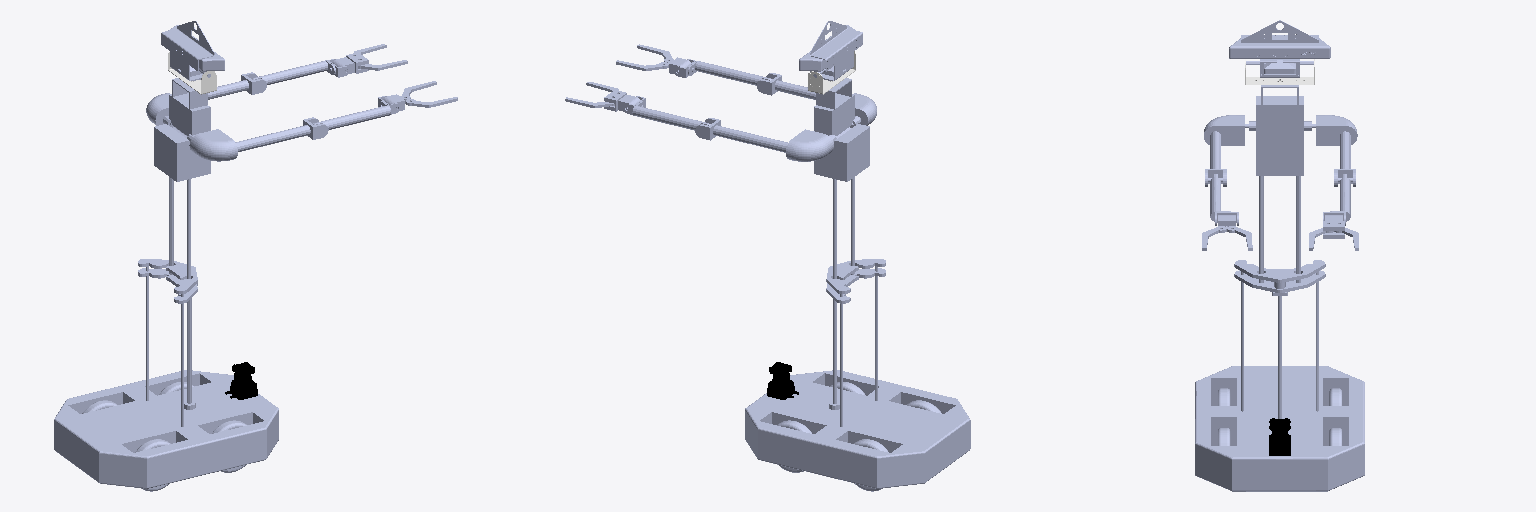
--- What the picture shows (computed from the rendered views, not written in the file) ---
3 views of the same robot in one strip: view 1: azimuth 30°, elevation 25°; view 2: azimuth 150°, elevation 25°; view 3: azimuth 270°, elevation 25° (orthographic).
Model lumyai_neli with 21 links and 20 joints (16 continuous, 1 prismatic, 3 fixed), rooted at base_link, posed all joints at 0.
Links seen in each view (by area): view 1: base_link, torso_Link, tilt_Link, right_shoulder_1_Link, right_shoulder_2_Link, laser_Link, left_elbow_Link, right_elbow_Link, left_shoulder_2_Link, pan_Link, left_shoulder_1_Link; view 2: base_link, torso_Link, tilt_Link, left_shoulder_1_Link, left_shoulder_2_Link, laser_Link, right_elbow_Link, left_elbow_Link, right_shoulder_2_Link, pan_Link, right_shoulder_1_Link; view 3: base_link, torso_Link, tilt_Link, left_shoulder_1_Link, right_shoulder_1_Link, laser_Link, right_shoulder_2_Link, left_shoulder_2_Link, pan_Link.
Link boxes in pixels (<box>): base_link: <box>54,259,278,491</box>; torso_Link: <box>138,78,210,303</box>; tilt_Link: <box>161,21,224,80</box>; right_shoulder_1_Link: <box>189,129,237,161</box>; right_shoulder_2_Link: <box>235,117,328,151</box>; laser_Link: <box>225,362,257,399</box>; left_elbow_Link: <box>252,60,335,84</box>; right_elbow_Link: <box>313,101,390,129</box>; left_shoulder_2_Link: <box>208,72,266,99</box>; pan_Link: <box>168,52,216,94</box>; left_shoulder_1_Link: <box>146,93,172,126</box>; base_link: <box>745,259,970,491</box>; torso_Link: <box>814,78,885,303</box>; tilt_Link: <box>799,21,862,80</box>; left_shoulder_1_Link: <box>786,129,833,161</box>; left_shoulder_2_Link: <box>695,118,787,152</box>; laser_Link: <box>767,362,798,399</box>; right_elbow_Link: <box>688,61,771,85</box>; left_elbow_Link: <box>632,101,710,130</box>; right_shoulder_2_Link: <box>757,73,815,99</box>; pan_Link: <box>808,51,855,94</box>; right_shoulder_1_Link: <box>850,93,876,126</box>; base_link: <box>1195,260,1364,491</box>; torso_Link: <box>1234,85,1325,295</box>; tilt_Link: <box>1229,20,1330,77</box>; left_shoulder_1_Link: <box>1312,115,1357,145</box>; right_shoulder_1_Link: <box>1204,115,1248,145</box>; laser_Link: <box>1269,418,1290,455</box>; right_shoulder_2_Link: <box>1205,131,1226,186</box>; left_shoulder_2_Link: <box>1334,131,1355,186</box>; pan_Link: <box>1245,59,1314,84</box>.
Bounding box of the posed robot: 1.13 × 0.456 × 1.35 m (x, y, z).
20 mesh visuals loaded from 21 distinct referenced files (20 binary STL); not drawn: 1 (reference not matched to a file when rendering).

URDF robot description (lumyai_neli):
<robot name="lumyai_neli">
  <link name="base_link">
    <inertial>
      <origin xyz="0.000356537786255296 -6.6249418627309E-17 0.0997888259449414" rpy="0 0 0" />
      <mass value="22.8330889899799" />
      <inertia
        ixx="0.393056901892828"
        ixy="1.36347370720269E-09"
        ixz="0.00281217969636561"
        iyy="0.655262329988686"
        iyz="-5.72458747072346E-17"
        izz="0.93344221495804" />
    </inertial>
    <visual>
      <origin xyz="0 0 0" rpy="0 0 0" />
      <geometry>
        <mesh filename="package://lumyai_descriptions/meshes/base_link.STL" />
      </geometry>
      <material name="">
        <color rgba="0.792156862745098 0.819607843137255 0.933333333333333 1" />
      </material>
    </visual>
    <collision>
      <origin xyz="0 0 0" rpy="0 0 0" />
      <geometry>
        <mesh filename="package://lumyai_descriptions/meshes/base_link.STL" />
      </geometry>
    </collision>
  </link>

  <link name="torso_Link">
    <inertial>
      <origin xyz="-0.0178492334695928 1.64680041842964E-05 0.42269777566101" rpy="0 0 0" />
      <mass value="2.69155190066383" />
      <inertia
        ixx="0.0469156503531629"
        ixy="-3.16954065000709E-07"
        ixz="0.00288774459410475"
        iyy="0.0450852039355934"
        iyz="2.76151419280066E-06"
        izz="0.00687526558226967" />
    </inertial>
    <visual>
      <origin xyz="0 0 0" rpy="0 0 0" /> 
      <geometry>
        <mesh filename="package://lumyai_descriptions/meshes/ballscrew_Link.STL" />
      </geometry>
      <material name="">
        <color rgba="0.792156862745098 0.819607843137255 0.933333333333333 1" />
      </material>
    </visual>
    <collision>
      <origin xyz="0 0 0" rpy="0 0 0" />
      <geometry>
        <mesh filename="package://lumyai_descriptions/meshes/ballscrew_Link.STL" />
      </geometry>
    </collision>
  </link>

  <joint name="torso_joint" type="prismatic">
    <origin xyz="0.075 0 0.5342" rpy="-1.2246E-16 -1.2246E-16 -4.1633E-17" />
    <parent link="base_link" />
    <child link="torso_Link" />
    <axis xyz="0 0 1" />
    <limit
      lower="0"
      upper="0"
      effort="0"
      velocity="0" />
  </joint>

  <link name="pan_Link">
    <inertial>
      <origin xyz="0 -0.00119126756458552 0.0134576748385669" rpy="0 0 0" />
      <mass value="0.0300690193079437" />
      <inertia
        ixx="0.000168368080790157"
        ixy="-4.80909958181406E-20"
        ixz="2.08466738613088E-20"
        iyy="1.73305613094932E-05"
        iyz="-1.64585540351021E-06"
        izz="0.000163586382566563" />
    </inertial>
    <visual>
      <origin xyz="0 0 0" rpy="0 0 0" />
      <geometry>
        <mesh filename="package://lumyai_descriptions/meshes/headservo1_Link.STL" />
      </geometry>
      <material name="">
        <color rgba="1 1 1 1" />
      </material>
    </visual>
    <collision>
      <origin xyz="0 0 0" rpy="0 0 0" />
      <geometry>
        <mesh filename="package://lumyai_descriptions/meshes/headservo1_Link.STL" />
      </geometry>
    </collision>
  </link>

  <joint name="pan_joint" type="continuous">
    <origin xyz="0.0094995 0 0.6335" rpy="1.2246E-16 1.2246E-16 4.1633E-17" />
    <parent link="torso_Link" />
    <child link="pan_Link" />
    <axis xyz="0 0 1" />
  </joint>

  <link name="tilt_Link">
    <inertial>
      <origin xyz="-8.44827095813905E-06 -0.0945031871194096 0.0320993885960499" rpy="0 0 0" />
      <mass value="0.833552168165174" />
      <inertia
        ixx="0.00381358557342371"
        ixy="4.54342919190634E-07"
        ixz="5.86564764065693E-06"
        iyy="0.000826427287752361"
        iyz="6.59205925913574E-08"
        izz="0.00358378305616896" />
    </inertial>
    <visual>
      <origin xyz="0 0 0" rpy="0 0 0" />
      <geometry>
        <mesh filename="package://lumyai_descriptions/meshes/headservo2_Link.STL" />
      </geometry>
      <material name="">
        <color rgba="0.792156862745098 0.819607843137255 0.933333333333333 1" />
      </material>
    </visual>
    <collision>
      <origin xyz="0 0 0" rpy="0 0 0" />
      <geometry>
        <mesh filename="package://lumyai_descriptions/meshes/headservo2_Link.STL" />
      </geometry>
    </collision>
  </link>

  <joint name="tilt_joint" type="continuous">
    <origin xyz="0 0.0945 0.054" rpy="3.6679E-16 3.5863E-33 -9.7775E-18" />
    <parent link="pan_Link" />
    <child link="tilt_Link" />
    <axis xyz="0 1 0" />
  </joint>

  <link name="right_shoulder_1_Link">
    <inertial>
      <origin xyz="0.0239992426752438 -0.0583974811506786 -2.22044604925031E-16" rpy="0 0 0" />
      <mass value="0.489568995899366" />
      <inertia
        ixx="0.000553543383353331"
        ixy="-7.80079861482034E-05"
        ixz="-4.05688775683426E-21"
        iyy="0.000428515747682648"
        iyz="1.66006146644331E-21"
        izz="0.00072378100401638" />
    </inertial>
    <visual>
      <origin xyz="0 0 0" rpy="0 0 0" />
      <geometry>
        <mesh filename="package://lumyai_descriptions/meshes/shoulder_R_Link.STL" />
      </geometry>
      <material name="">
        <color rgba="0.792156862745098 0.819607843137255 0.933333333333333 1" />
      </material>
    </visual>
    <collision>
      <origin xyz="0 0 0" rpy="0 0 0" />
      <geometry>
        <mesh filename="package://lumyai_descriptions/meshes/shoulder_R_Link.STL" />
      </geometry>
    </collision>
  </link>

  <joint name="right_shoulder_1_joint" type="continuous">
    <origin xyz="-0.025 -0.0828 0.485" rpy="5.9764E-17 1.2246E-16 1.0433E-16" />
    <parent link="torso_Link" />
    <child link="right_shoulder_1_Link" />
    <axis xyz="0 1 0" />
  </joint>

  <link name="right_shoulder_2_Link">
    <inertial>
      <origin xyz="0.159020988900685 -2.77555756156289E-17 0" rpy="0 0 0" />
      <mass value="0.232391134105839" />
      <inertia
        ixx="5.22472538303865E-05"
        ixy="2.52122559280678E-21"
        ixz="-8.71898229208082E-21"
        iyy="0.00180130279668001"
        iyz="1.4475660719678E-21"
        izz="0.00182056733175636" />
    </inertial>
    <visual>
      <origin xyz="0 0 0" rpy="0 0 0" />
      <geometry>
        <mesh filename="package://lumyai_descriptions/meshes/upper-arm_R_Link.STL" />
      </geometry>
      <material name="">
        <color rgba="0.792156862745098 0.819607843137255 0.933333333333333 1" />
      </material>
    </visual>
    <collision>
      <origin xyz="0 0 0" rpy="0 0 0" />
      <geometry>
        <mesh filename="package://lumyai_descriptions/meshes/upper-arm_R_Link.STL" />
      </geometry>
    </collision>
  </link>

  <joint name="right_shoulder_2_joint" type="continuous">
    <origin xyz="0.065 -0.08952 0" rpy="6.2701E-17 4.9423E-62 -6.2701E-17" />
    <parent link="right_shoulder_1_Link" />
    <child link="right_shoulder_2_Link" />
    <axis xyz="1 0 0" />
  </joint>

  <link name="right_elbow_Link">
    <inertial>
      <origin xyz="0.122051716562919 0.000820658493516618 3.52135320902391E-09" rpy="0 0 0" />
      <mass value="0.166643682967829" />
      <inertia
        ixx="2.28800565451064E-05"
        ixy="1.49492951235107E-05"
        ixz="-7.46478394424626E-11"
        iyy="0.000791317297927464"
        iyz="1.51818886507853E-11"
        izz="0.000794899254775122" />
    </inertial>
    <visual>
      <origin xyz="0 0 0" rpy="0 0 0" />
      <geometry>
        <mesh filename="package://lumyai_descriptions/meshes/lower-arm_R_Link.STL" />
      </geometry>
      <material name="">
        <color rgba="0.792156862745098 0.819607843137255 0.933333333333333 1" />
      </material>
    </visual>
    <collision>
      <origin xyz="0 0 0" rpy="0 0 0" />
      <geometry>
        <mesh filename="package://lumyai_descriptions/meshes/lower-arm_R_Link.STL" />
      </geometry>
    </collision>
  </link>

  <joint name="right_elbow_joint" type="continuous">
    <origin xyz="0.278 0 0" rpy="-1.6008E-15 -1.2246E-16 1.6653E-16" />
    <parent link="right_shoulder_2_Link" />

    <child link="right_elbow_Link" />
    <axis xyz="0 1 0" />
  </joint>
  
  <link name="right_wrist_1_Link">
    <inertial>
      <origin xyz="0.00848806817016701 0 0" rpy="0 0 0" />
      <mass value="0.0149816280592893" />
      <inertia
        ixx="8.84904578599191E-06"
        ixy="1.39288755525688E-21"
        ixz="-7.83981016076421E-21"
        iyy="2.76435935614456E-06"
        iyz="1.51089708761639E-20"
        izz="9.50204738188144E-06" />
    </inertial>
    <visual>
      <origin xyz="0 0 0" rpy="0 0 0" />
      <geometry>
        <mesh filename="package://lumyai_descriptions/meshes/gripper-servo1_R_Link.STL" />
      </geometry>
      <material name="">
        <color rgba="0.792156862745098 0.819607843137255 0.933333333333333 1" />
      </material>
    </visual>
    <collision>
      <origin xyz="0 0 0" rpy="0 0 0" />
      <geometry>
        <mesh filename="package://lumyai_descriptions/meshes/gripper-servo1_R_Link.STL" />
      </geometry>
    </collision>
  </link>
  
  <joint name="right_wrist_1_joint" type="continuous">
    <origin xyz="0.23436 0.03 0" rpy="1.6008E-15 1.309E-29 -1.6653E-16" />
    <parent link="right_elbow_Link" />
    <child link="right_wrist_1_Link" />
    <axis xyz="1 0 0" />
  </joint>
  
  <link name="right_wrist_2_Link">
    <inertial>
      <origin xyz="0.00847810994802878 0.0269999999999982 -2.22044604925031E-16" rpy="0 0 0" />
      <mass value="0.0641453083227973" />
      <inertia
        ixx="1.6788504342063E-05"
        ixy="-5.9756481874188E-21"
        ixz="2.8228579612599E-20"
        iyy="1.55686991248703E-05"
        iyz="-1.8560778850074E-20"
        izz="2.33222127439071E-05" />
    </inertial>
    <visual>
      <origin xyz="0 0 0" rpy="0 0 0" />
      <geometry>
        <mesh filename="package://lumyai_descriptions/meshes/gripper-servo2_R_Link.STL" />
      </geometry>
      <material name="">
        <color rgba="0.792156862745098 0.819607843137255 0.933333333333333 1" />
      </material>
    </visual>
    <collision>
      <origin xyz="0 0 0" rpy="0 0 0" />
      <geometry>
        <mesh filename="package://lumyai_descriptions/meshes/gripper-servo2_R_Link.STL" />
      </geometry>
    </collision>
  </link>
  <joint
    name="right_wrist_2_joint"
    type="continuous">
    <origin xyz="0.0267 -0.027 0" rpy="-3.7954E-16 3.5006E-30 -4.9485E-16" />
    <parent link="right_wrist_1_Link" />
    <child link="right_wrist_2_Link" />
    <axis xyz="0 1 0" />
  </joint>
  
  <link name="right_wrist_3_Link">
    <inertial>
      <origin xyz="0.0186417965193608 2.77555756156289E-17 2.22044604925031E-16" rpy="0 0 0" />
      <mass value="0.0557526551260179" />
      <inertia
        ixx="2.4548698493395E-05"
        ixy="2.6975485784349E-20"
        ixz="7.63449804477851E-21"
        iyy="1.63711040865245E-05"
        iyz="-3.35687188123858E-20"
        izz="2.5441649760699E-05" />
    </inertial>
    <visual>
      <origin xyz="0 0 0" rpy="0 0 0" />
      <geometry>
        <mesh filename="package://lumyai_descriptions/meshes/gripper-servo3_R_Link.STL" />
      </geometry>
      <material name="">
        <color rgba="0.792156862745098 0.819607843137255 0.933333333333333 1" />
      </material>
    </visual>
    <collision>
      <origin xyz="0 0 0" rpy="0 0 0" />
      <geometry>
        <mesh filename="package://lumyai_descriptions/meshes/gripper-servo3_R_Link.STL" />
      </geometry>
    </collision>
  </link>
  
  <joint name="right_wrist_3_joint" type="continuous">
    <origin xyz="0.0335 0.027 0" rpy="4.647E-17 1.2011E-16 7.3949E-16" />
    <parent link="right_wrist_2_Link" />
    <child link="right_wrist_3_Link" />
    <axis xyz="1 0 0" />
  </joint>
  
  <link name="right_gripper_Link">
    <inertial>
      <origin xyz="0.0428340981345857 0.0302658123758087 -0.004" rpy="0 0 0" />
      <mass value="0.0226554217932752" />
      <inertia
        ixx="8.71789031389235E-06"
        ixy="1.34146946089381E-05"
        ixz="-3.80735898836956E-21"
        iyy="3.40521913817587E-05"
        iyz="-4.34086618922952E-22"
        izz="4.25284238631894E-05" />
    </inertial>
    <visual>
      <origin xyz="0 0 0" rpy="0 0 0" />
      <geometry>
        <mesh filename="package://lumyai_descriptions/meshes/gripper-servo4_R_Link.STL" />
      </geometry>
      <material name="">
        <color rgba="0.792156862745098 0.819607843137255 0.933333333333333 1" />
      </material>
    </visual>
    <collision>
      <origin xyz="0 0 0" rpy="0 0 0" />
      <geometry>
        <mesh filename="package://lumyai_descriptions/meshes/gripper-servo4_R_Link.STL" />
      </geometry>
    </collision>
  </link>
  <joint name="right_gripper_joint" type="continuous">
    <origin xyz="0.02 0.015 0.004" rpy="5.7683E-34 0 0" />
    <parent link="right_wrist_3_Link" />
    <child link="right_gripper_Link" />
    <axis xyz="0 0 1" />
  </joint>
  
  <link name="right_gripper_fixed_Link">
    <inertial>
      <origin xyz="0.0434341825098 -0.0593981487763494 -0.004" rpy="0 0 0" />
      <mass value="0.0226554217932752" />
      <inertia
        ixx="8.18861723555839E-06"
        ixy="-1.28943839692323E-05"
        ixz="9.95342015448899E-23"
        iyy="3.45814644600927E-05"
        iyz="9.54654734742236E-22"
        izz="4.25284238631894E-05" />
    </inertial>
    <visual>
      <origin xyz="0 0 0" rpy="0 0 0" />
      <geometry>
        <mesh filename="package://lumyai_descriptions/meshes/gripper_fix_R_Link.STL" />
      </geometry>
      <material name="">
        <color rgba="0.792156862745098 0.819607843137255 0.933333333333333 1" />
      </material>
    </visual>
    <collision>
      <origin xyz="0 0 0" rpy="0 0 0" />
      <geometry>
        <mesh filename="package://lumyai_descriptions/meshes/gripper_fix_R_Link.STL" />
      </geometry>
    </collision>
  </link>
  
  <joint name="right_gripper_fixed_joint" type="fixed">
    <origin xyz="0.02 0.015 0.004" rpy="5.7683E-34 0 0" />
    <parent link="right_wrist_3_Link" />
    <child link="right_gripper_fixed_Link" />
    <axis xyz="0 0 1" />
  </joint>
  
  <link name="left_shoulder_1_Link">
    <inertial>
      <origin xyz="0.0239992426752437 0.0583974811506782 -2.22044604925031E-16" rpy="0 0 0" />
      <mass value="0.489568995899366" />
      <inertia
        ixx="0.000553543383353331"
        ixy="7.80079861482035E-05"
        ixz="2.26833743933908E-21"
        iyy="0.000428515747682648"
        iyz="-2.19460453042143E-20"
        izz="0.00072378100401638" />
    </inertial>
    <visual>
      <origin xyz="0 0 0" rpy="0 0 0" />
      <geometry>
        <mesh filename="package://lumyai_descriptions/meshes/shoulder_L_Link.STL" />
      </geometry>
      <material name="">
        <color rgba="0.792156862745098 0.819607843137255 0.933333333333333 1" />
      </material>
    </visual>
    <collision>
      <origin xyz="0 0 0" rpy="0 0 0" />
      <geometry>
        <mesh filename="package://lumyai_descriptions/meshes/shoulder_L_Link.STL" />
      </geometry>
    </collision>
  </link>
  
  <joint name="left_shoulder_1_joint" type="continuous">
    <origin xyz="-0.025 0.0858 0.485" rpy="5.593E-17 3.6739E-16 -8.1621E-17" />
    <parent link="torso_Link" />
    <child link="left_shoulder_1_Link" />
    <axis xyz="0 1 0" />
  </joint>
  
  <link name="left_shoulder_2_Link">
    <inertial>
      <origin xyz="0.159020988900685 0 0" rpy="0 0 0" />
      <mass value="0.232391134105839" />
      <inertia
        ixx="5.22472538303864E-05"
        ixy="9.395660615452E-21"
        ixz="1.06521417891698E-20"
        iyy="0.00180130279668"
        iyz="3.92910790962688E-21"
        izz="0.00182056733175636" />
    </inertial>
    <visual>
      <origin xyz="0 0 0" rpy="0 0 0" />
      <geometry>
        <mesh filename="package://lumyai_descriptions/meshes/upper-arm_L_Link.STL" />
      </geometry>
      <material name="">
        <color rgba="0.792156862745098 0.819607843137255 0.933333333333333 1" />
      </material>
    </visual>
    <collision>
      <origin xyz="0 0 0" rpy="0 0 0" />
      <geometry>
        <mesh filename="package://lumyai_descriptions/meshes/upper-arm_L_Link.STL" />
      </geometry>
    </collision>
  </link>
  
  <joint name="left_shoulder_2_joint" type="continuous">
    <origin xyz="0.065 0.08952 0" rpy="6.6534E-17 -2.4493E-16 1.2325E-16" />
    <parent link="left_shoulder_1_Link" />
    <child link="left_shoulder_2_Link" />
    <axis xyz="1 0 0" />
  </joint>
  
  <link name="left_elbow_Link">
    <inertial>
      <origin xyz="0.122051716562903 -0.000820658493535464 -3.52135476333615E-09" rpy="0 0 0" />
      <mass value="0.166643682967829" />
      <inertia
        ixx="2.28800565451064E-05"
        ixy="-1.49492951235107E-05"
        ixz="7.46478391399886E-11"
        iyy="0.000791317297927464"
        iyz="1.51818886586902E-11"
        izz="0.000794899254775122" />
    </inertial>
    <visual>
      <origin xyz="0 0 0" rpy="0 0 0" />
      <geometry>
        <mesh filename="package://lumyai_descriptions/meshes/lower-arm_L_Link.STL" />
      </geometry>
      <material name="">
        <color rgba="0.792156862745098 0.819607843137255 0.933333333333333 1" />
      </material>
    </visual>
    <collision>
      <origin xyz="0 0 0" rpy="0 0 0" />
      <geometry>
        <mesh filename="package://lumyai_descriptions/meshes/lower-arm_L_Link.STL" />
      </geometry>
    </collision>
  </link>
  <joint name="left_elbow_joint" type="continuous">
    <origin xyz="0.278 0 0" rpy="1.3878E-16 -1.1102E-16 0" />
    <parent link="left_shoulder_2_Link" />
    <child link="left_elbow_Link" />
    <axis xyz="0 1 0" />
  </joint>
  
  <link name="left_wrist_1_Link">
    <inertial>
      <origin xyz="0.00848806817016701 0 0" rpy="0 0 0" />
      <mass value="0.0149816280592893" />
      <inertia
        ixx="8.84904578599191E-06"
        ixy="-1.00486934894722E-21"
        ixz="6.96327167775905E-21"
        iyy="2.76435935614456E-06"
        iyz="1.64963773210181E-20"
        izz="9.50204738188144E-06" />
    </inertial>
    <visual>
      <origin xyz="0 0 0" rpy="0 0 0" />
      <geometry>
        <mesh filename="package://lumyai_descriptions/meshes/gripper-servo1_L_Link.STL" />
      </geometry>
      <material name="">
        <color rgba="0.792156862745098 0.819607843137255 0.933333333333333 1" />
      </material>
    </visual>
    <collision>
      <origin xyz="0 0 0" rpy="0 0 0" />
      <geometry>
        <mesh filename="package://lumyai_descriptions/meshes/gripper-servo1_L_Link.STL" />
      </geometry>
    </collision>
  </link>
  
  <joint name="left_wrist_1_joint" type="continuous">
    <origin xyz="0.23436 -0.03 0" rpy="-2.7756E-16 2.4652E-32 -2.3111E-32" />
    <parent link="left_elbow_Link" />
    <child link="left_wrist_1_Link" />
    <axis xyz="1 0 0" />
  </joint>
  
  <link name="left_wrist_2_Link">
    <inertial>
      <origin xyz="0.0084781099480139 -0.0270000000000558 -6.66133814775094E-16" rpy="0 0 0" />
      <mass value="0.0641453083227973" />
      <inertia
        ixx="1.6788504342063E-05"
        ixy="5.94543201326671E-21"
        ixz="-2.79220055887874E-20"
        iyy="1.55686991248703E-05"
        iyz="1.29266875569695E-20"
        izz="2.33222127439071E-05" />
    </inertial>
    <visual>
      <origin xyz="0 0 0" rpy="0 0 0" />
      <geometry>
        <mesh filename="package://lumyai_descriptions/meshes/gripper-servo2_L_Link.STL" />
      </geometry>
      <material name="">
        <color rgba="0.792156862745098 0.819607843137255 0.933333333333333 1" />
      </material>
    </visual>
    <collision>
      <origin xyz="0 0 0" rpy="0 0 0" />
      <geometry>
        <mesh filename="package://lumyai_descriptions/meshes/gripper-servo2_L_Link.STL" />
      </geometry>
    </collision>
  </link>
  <joint name="left_wrist_2_joint" type="continuous">
    <origin xyz="0.0267 0.027 0" rpy="-2.6732E-32 2.2204E-16 2.0331E-16" />
    <parent link="left_wrist_1_Link" />
    <child link="left_wrist_2_Link" />
    <axis xyz="0 1 0" />
  </joint>
  
  <link name="left_wrist_3_Link">
    <inertial>
      <origin xyz="0.0186417965193607 -2.77555756156289E-17 2.22044604925031E-16" rpy="0 0 0" />
      <mass value="0.0557526551260178" />
      <inertia
        ixx="2.4548698493395E-05"
        ixy="1.37246533420391E-20"
        ixz="1.27838300237793E-20"
        iyy="1.63711040865245E-05"
        iyz="3.67570943397618E-21"
        izz="2.5441649760699E-05" />
    </inertial>
    <visual>
      <origin xyz="0 0 0" rpy="0 0 0" />
      <geometry>
        <mesh filename="package://lumyai_descriptions/meshes/gripper-servo3_L_Link.STL" />
      </geometry>
      <material name="">
        <color rgba="0.792156862745098 0.819607843137255 0.933333333333333 1" />
      </material>
    </visual>
    <collision>
      <origin xyz="0 0 0" rpy="0 0 0" />
      <geometry>
        <mesh filename="package://lumyai_descriptions/meshes/gripper-servo3_L_Link.STL" />
      </geometry>
    </collision>
  </link>
  
  <joint name="left_wrist_3_joint" type="continuous">
    <origin xyz="0.0335 -0.027 0" rpy="1.5648E-31 1.2246E-16 6.0767E-16" />
    <parent link="left_wrist_2_Link" />
    <child link="left_wrist_3_Link" />
    <axis xyz="1 0 0" />
  </joint>
  
  <link name="left_gripper_Link">
    <inertial>
      <origin xyz="0.043136321949884 -0.0598334894105086 -0.004" rpy="0 0 0" />
      <mass value="0.0226554217932752" />
      <inertia
        ixx="8.45063720118698E-06"
        ixy="-1.31572009335656E-05"
        ixz="9.63247978916627E-21"
        iyy="3.4319444494464E-05"
        iyz="-3.54121329634229E-21"
        izz="4.25284238631894E-05" />
    </inertial>
    <visual>
      <origin xyz="0 0 0" rpy="0 0 0" />
      <geometry>
        <mesh filename="package://lumyai_descriptions/meshes/gripper-servo4_L_Link.STL" />
      </geometry>
      <material name="">
        <color rgba="0.792156862745098 0.819607843137255 0.933333333333333 1" />
      </material>
    </visual>
    <collision>
      <origin xyz="0 0 0" rpy="0 0 0" />
      <geometry>
        <mesh filename="package://lumyai_descriptions/meshes/gripper-servo4_L_Link.STL" />
      </geometry>
    </collision>
  </link>
  
  <joint name="left_gripper_joint" type="continuous">
    <origin xyz="0.02 0.015 0.004" rpy="7.8612E-33 0 0" />
    <parent link="left_wrist_3_Link" />
    <child link="left_gripper_Link" />
    <axis xyz="0 0 1" />
  </joint>
  
  <link name="left_gripper_fixed_Link">
    <inertial>
      <origin xyz="0.0431363219499079 0.0298334894104741 -0.004" rpy="0 0 0" />
      <mass value="0.0226554217932752" />
      <inertia
        ixx="8.45063720116595E-06"
        ixy="1.3157200933545E-05"
        ixz="8.5951996959197E-21"
        iyy="3.43194444944851E-05"
        iyz="3.41059496023486E-21"
        izz="4.25284238631894E-05" />
    </inertial>
    <visual>
      <origin xyz="0 0 0" rpy="0 0 0" />
      <geometry>
        <mesh filename="package://lumyai_descriptions/meshes/gripper_fix_L_Link.STL" />
      </geometry>
      <material name="">
        <color rgba="0.792156862745098 0.819607843137255 0.933333333333333 1" />
      </material>
    </visual>
    <collision>
      <origin xyz="0 0 0" rpy="0 0 0" />
      <geometry>
        <mesh filename="package://lumyai_descriptions/meshes/gripper_fix_L_Link.STL" />
      </geometry>
    </collision>
  </link>
  
  <joint name="left_gripper_fixed_joint" type="fixed">
    <origin xyz="0.02 0.015 0.004" rpy="7.8612E-33 0 0" />
    <parent link="left_wrist_3_Link" />
    <child link="left_gripper_fixed_Link" />
    <axis xyz="0 0 1" />
  </joint>
  
  <link name="laser_Link">
    <inertial>
      <origin xyz="-0.000643832581142478 9.32775516960576E-10 0.0378322387460577" rpy="0 0 0" />
      <mass value="0.229160254925421" />
      <inertia
        ixx="0.000208944146839268"
        ixy="-1.03293676040432E-12"
        ixz="1.13065220537512E-06"
        iyy="0.000213352214088028"
        iyz="4.22832429311092E-12"
        izz="0.000112442329461823" />
    </inertial>
    <visual>
      <origin xyz="0 0 0" rpy="0 0 0" />
      <geometry>
        <mesh filename="package://lumyai_descriptions/meshes/laser_Link.STL" />
      </geometry>
      <material name="">
        <color rgba="0 0 0 1" />
      </material>
    </visual>
    <collision>
      <origin xyz="0 0 0" rpy="0 0 0" />
      <geometry>
        <mesh filename="package://lumyai_descriptions/meshes/laser_Link.STL" />
      </geometry>
    </collision>
  </link>
  
  <joint name="laser_joint" type="fixed">
    <origin xyz="0.252 0 0.1492" rpy="0 0 0" />
    <parent link="base_link" />
    <child link="laser_Link" />
    <axis xyz="0 0 1" />
  </joint>
</robot>
